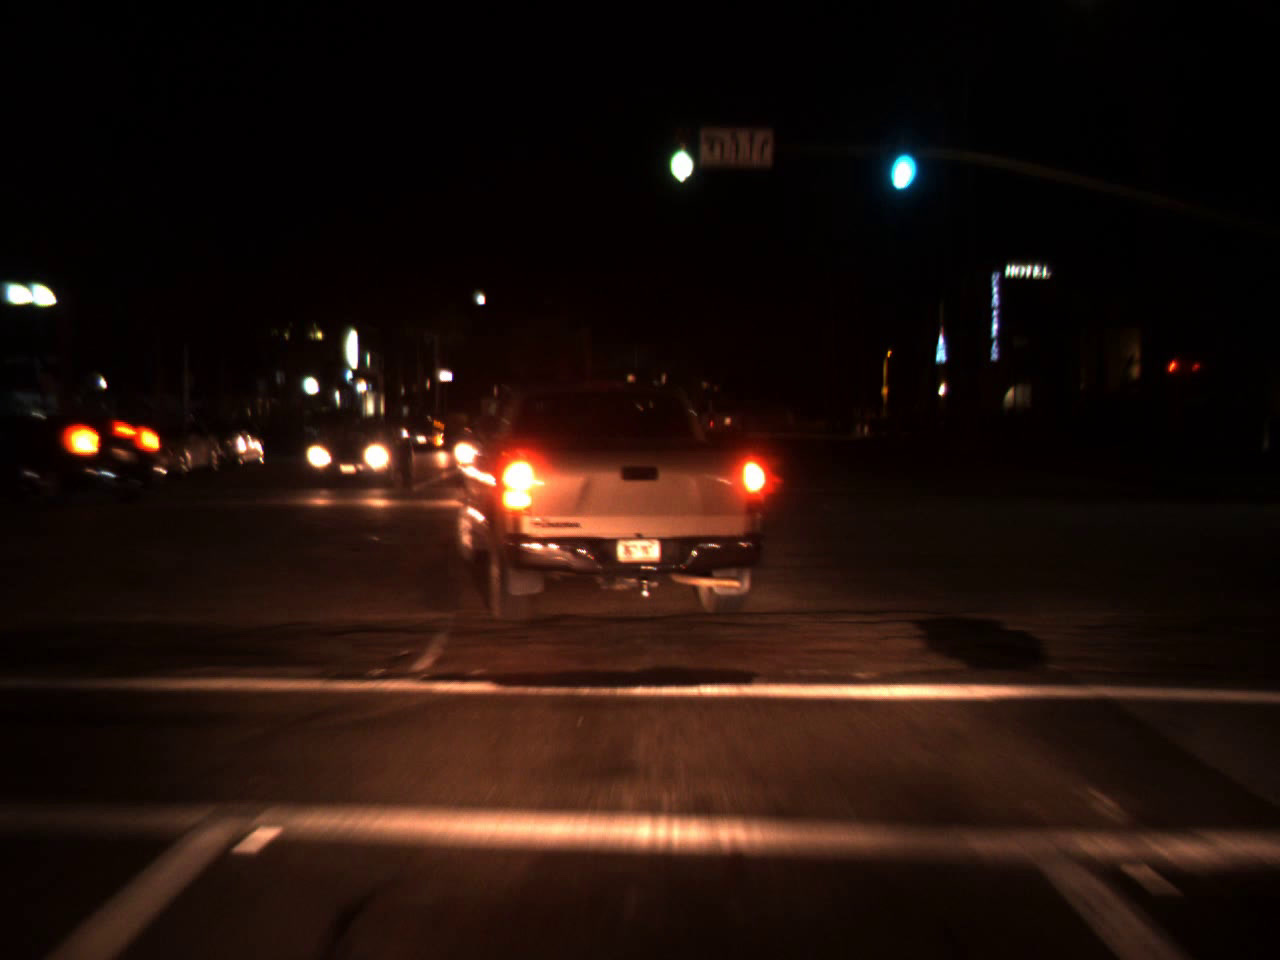go: (878, 122, 921, 200), (661, 108, 698, 195)
